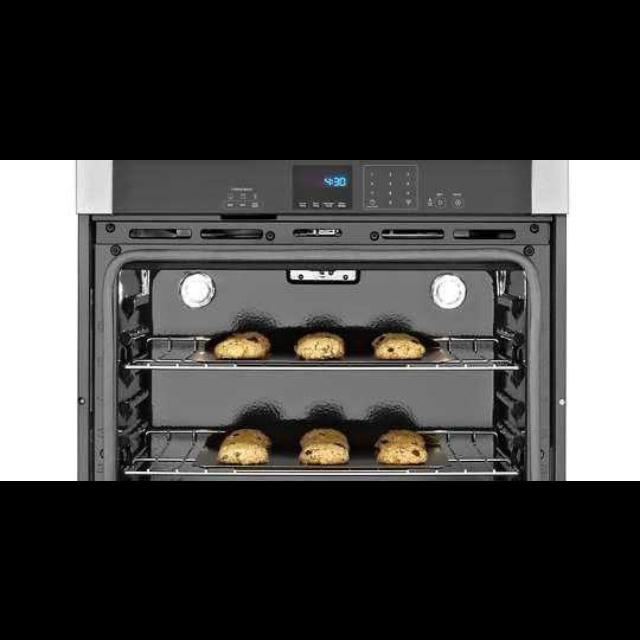Oven: (78, 212, 568, 480)
